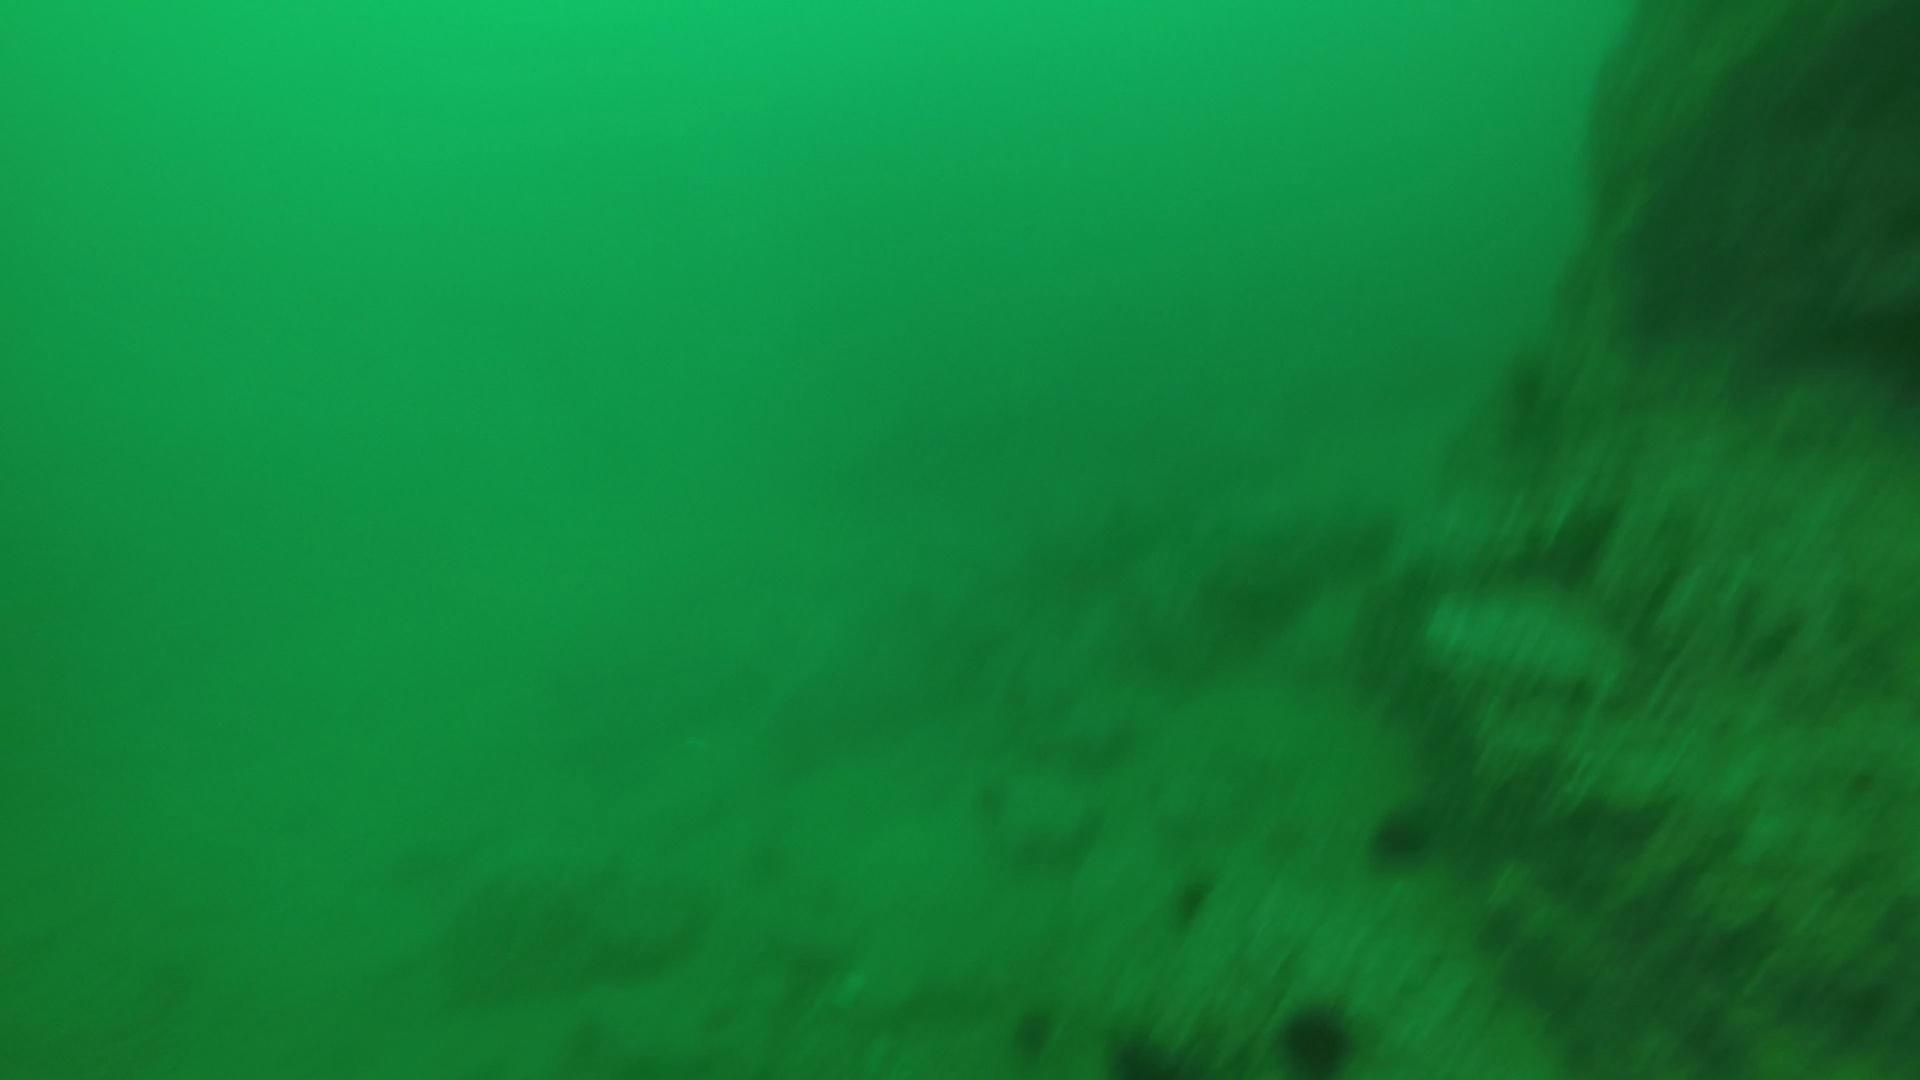echinus: (1271, 996, 1364, 1075), (1362, 799, 1439, 873), (1160, 865, 1221, 931), (1002, 1000, 1062, 1063)
